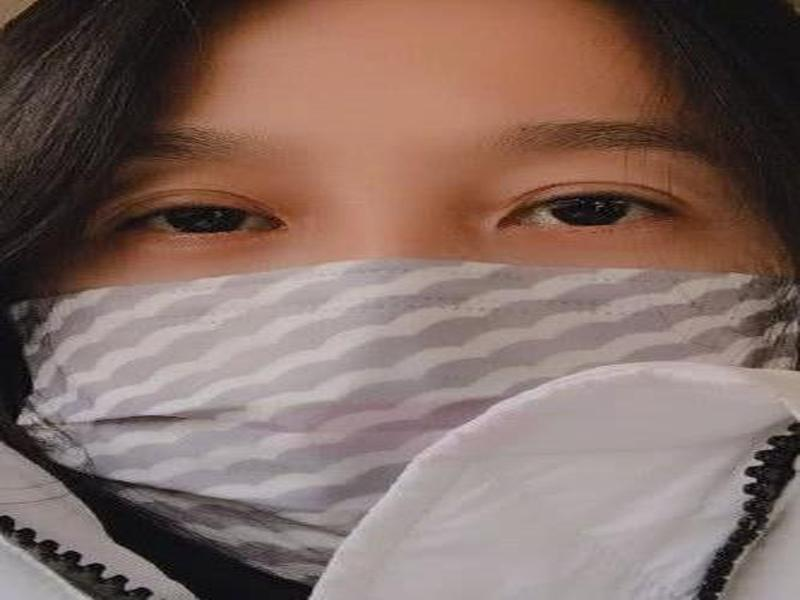with_mask: (15, 7, 800, 589)
